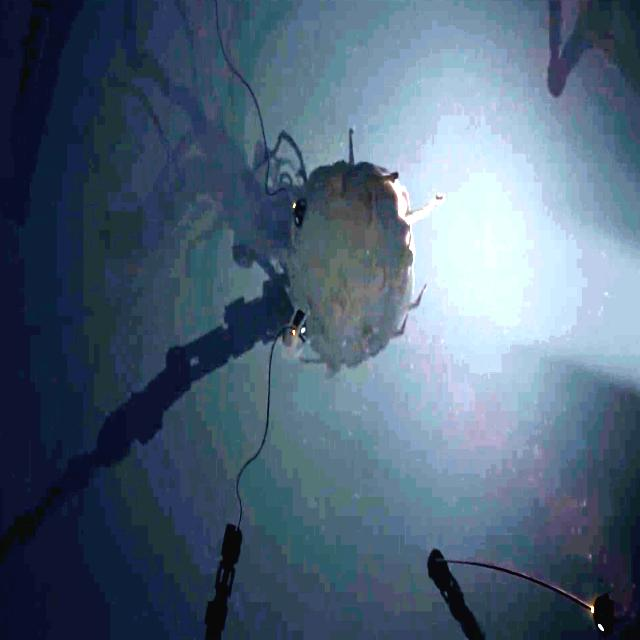blob: (275, 130, 444, 366)
interactible: (590, 596, 620, 636), (290, 192, 306, 229), (292, 310, 308, 338)
mechanism: (0, 281, 292, 557), (546, 0, 639, 103), (424, 548, 479, 640), (205, 526, 243, 640)
